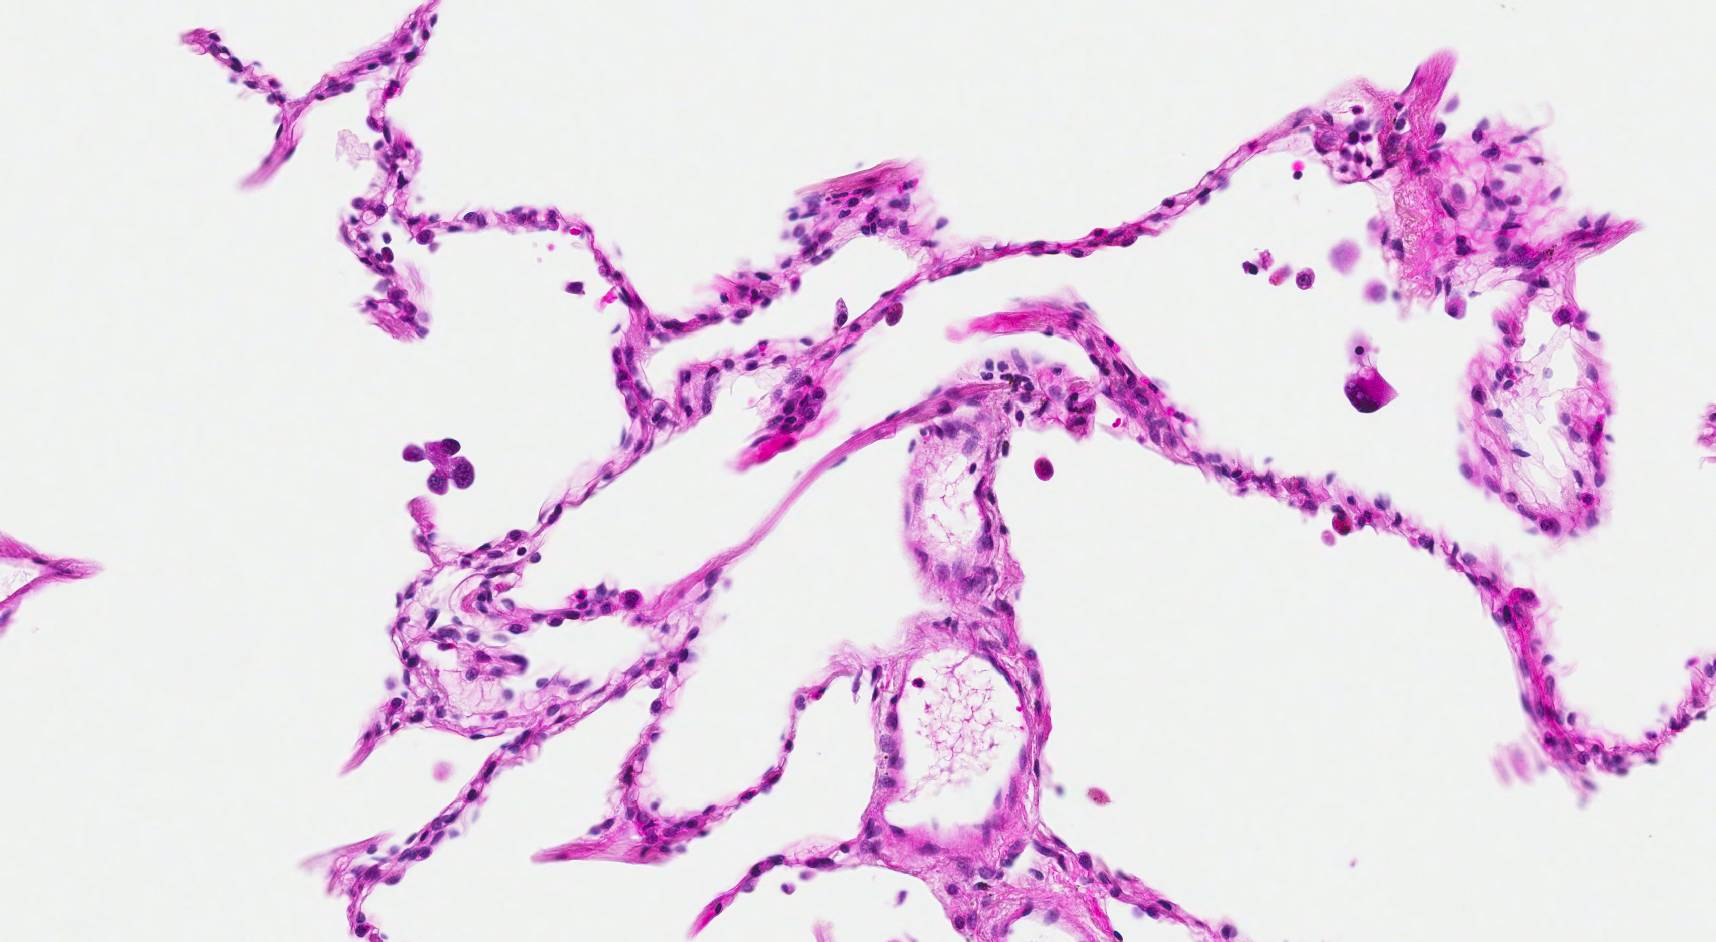stas: (399, 437, 476, 500), (1338, 360, 1397, 416)
